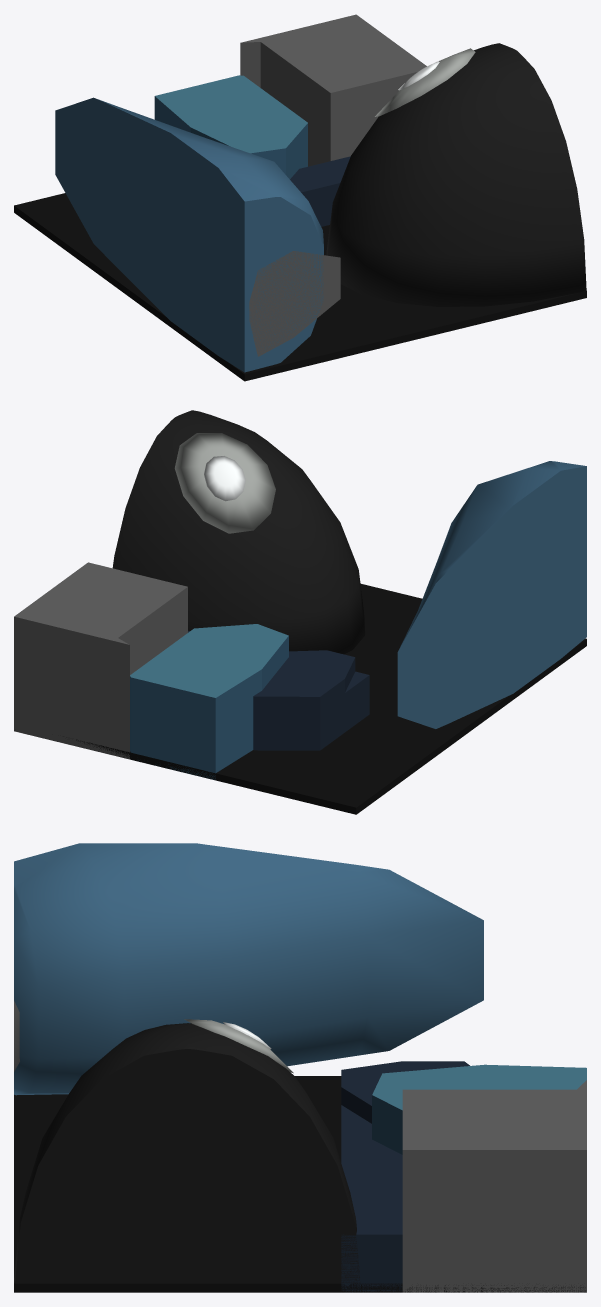
The model's file is newsho-45.glb.
3 renders of one model, top to bottom at view 1: azimuth 30°, elevation 25°; view 2: azimuth 150°, elevation 25°; view 3: azimuth 270°, elevation 25°, orthographic. The views are drawn at different scales.
Parts seen in each view (by area): view 1: newsho-45; view 2: newsho-45; view 3: newsho-45.
Part boxes in pixels (x1,y1,x2,y2): newsho-45: (14, 14, 586, 381); newsho-45: (14, 410, 586, 814); newsho-45: (14, 843, 586, 1292).
Size of the model in its own units: 2 by 1.1 by 2.33.
